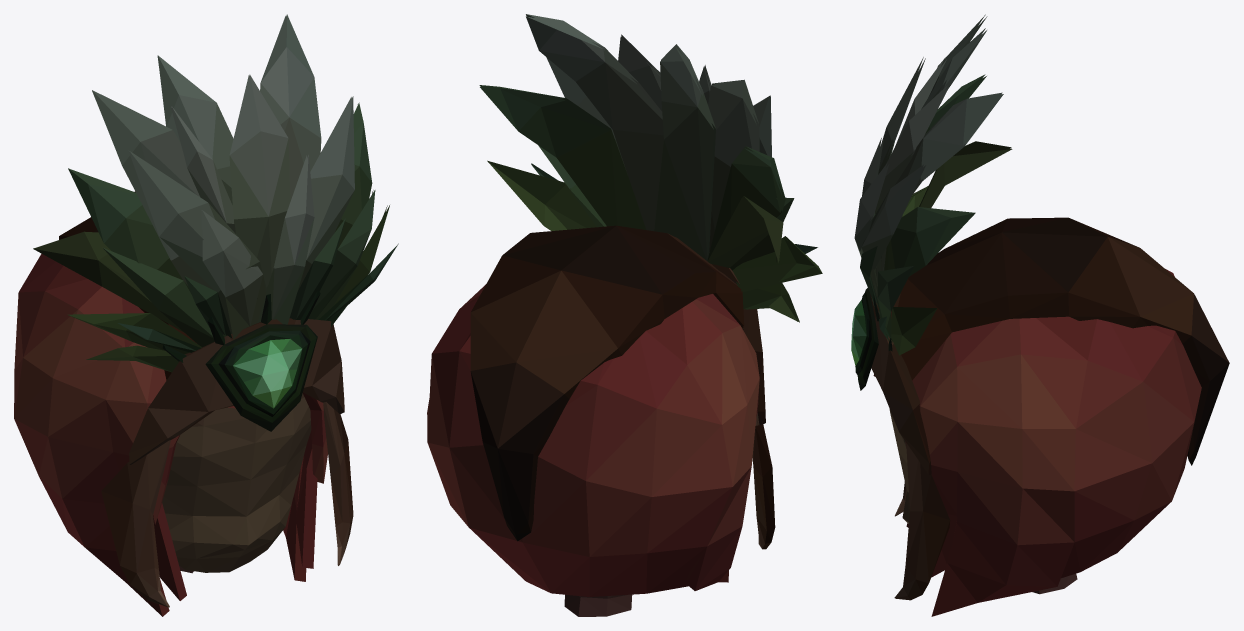
Rendered from helm_darkskin_bob_red_headress.fbx.
The picture shows the model from 3 angles, left to right: view 1: azimuth 30°, elevation 25°; view 2: azimuth 150°, elevation 25°; view 3: azimuth 270°, elevation 25°; orthographic projection. The views are drawn at different scales.
Visible parts, largest first — view 1: helm_darkskin_bob_red_headress; view 2: helm_darkskin_bob_red_headress; view 3: helm_darkskin_bob_red_headress.
Part boxes in pixels (bbox=[...]): helm_darkskin_bob_red_headress: bbox=[14, 14, 398, 616]; helm_darkskin_bob_red_headress: bbox=[427, 14, 822, 616]; helm_darkskin_bob_red_headress: bbox=[851, 14, 1229, 616].
Bounding box in the file's own units: 1.29 × 2.07 × 1.32.
